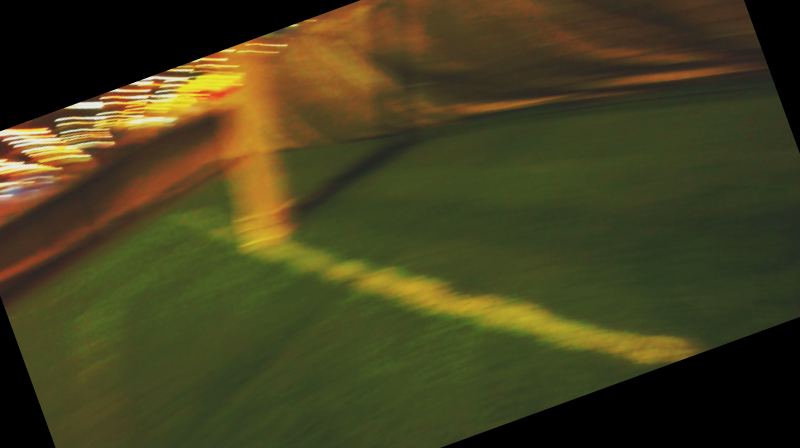post: (215, 189, 315, 262)
